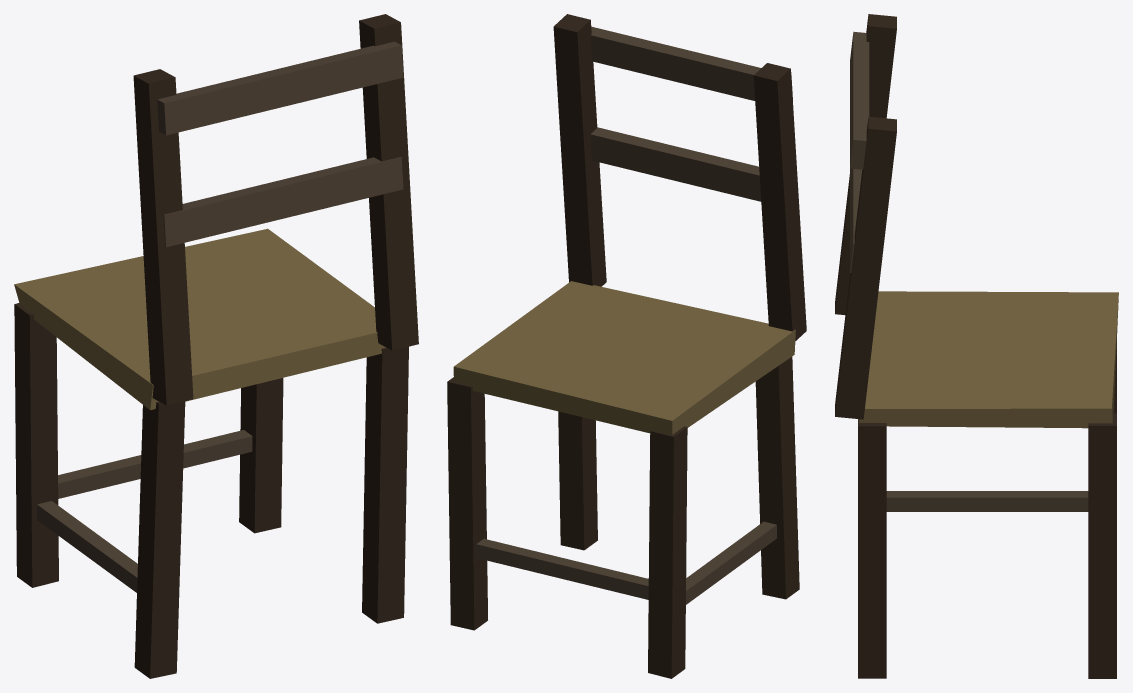
Rendered from chair_rush_a.glb.
The picture shows the model from 3 angles, left to right: view 1: azimuth 30°, elevation 25°; view 2: azimuth 150°, elevation 25°; view 3: azimuth 270°, elevation 25°; orthographic projection. The views are drawn at different scales.
Visible parts, largest first — view 1: chair_rush_a; view 2: chair_rush_a; view 3: chair_rush_a.
Boxes of the visible parts, x1,y1,x2,y2 form: chair_rush_a: (14, 14, 418, 678); chair_rush_a: (447, 14, 806, 678); chair_rush_a: (835, 14, 1118, 678).
Size of what is drawn, in the model's own units: 0.4365 by 0.9516 by 0.4442.
